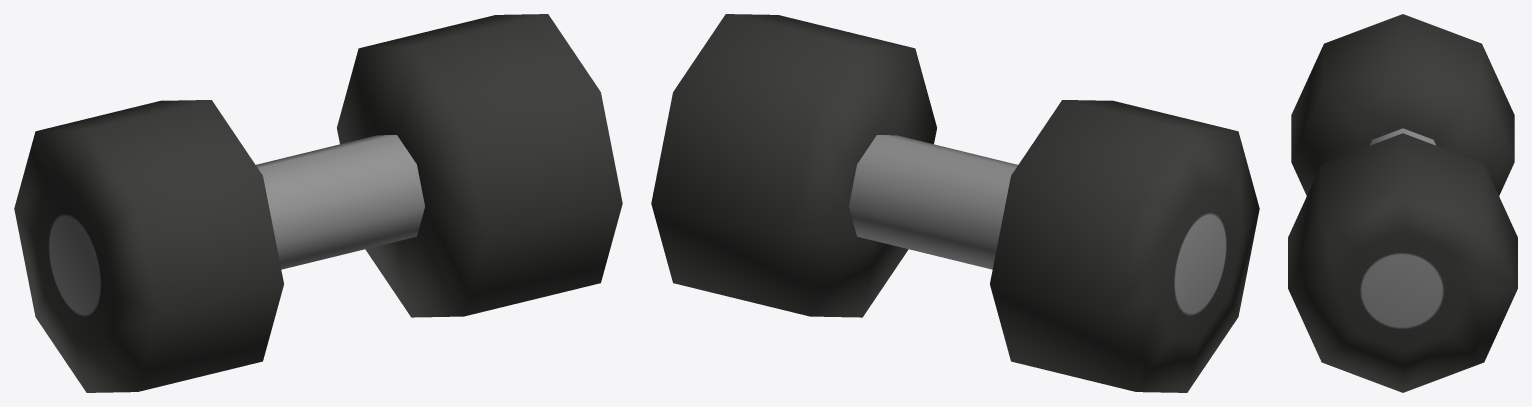
File: Dumbbell_edited.fbx
3 views of the same model, side by side, from view 1: azimuth 30°, elevation 25°; view 2: azimuth 150°, elevation 25°; view 3: azimuth 270°, elevation 25° (orthographic). The views are drawn at different scales.
Parts seen in each view (by area): view 1: Dumbbell; view 2: Dumbbell; view 3: Dumbbell.
Part boxes in pixels (x1,y1,x2,y2): Dumbbell: [14, 14, 622, 392]; Dumbbell: [651, 14, 1259, 392]; Dumbbell: [1288, 14, 1517, 392].
Size of the model in its own units: 41.8 by 22.42 by 22.42.
